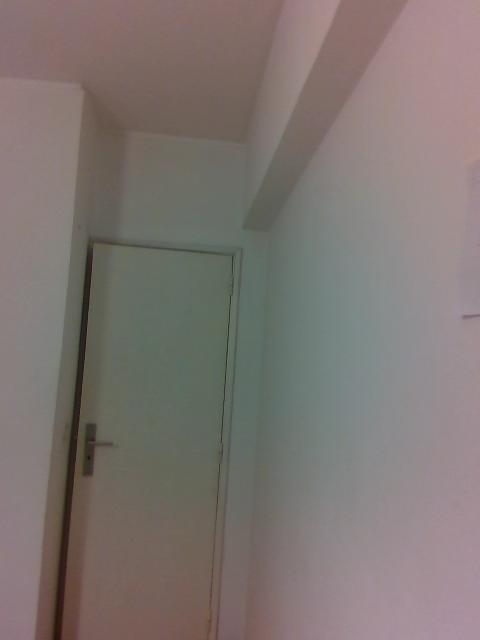door: (62, 242, 233, 637)
